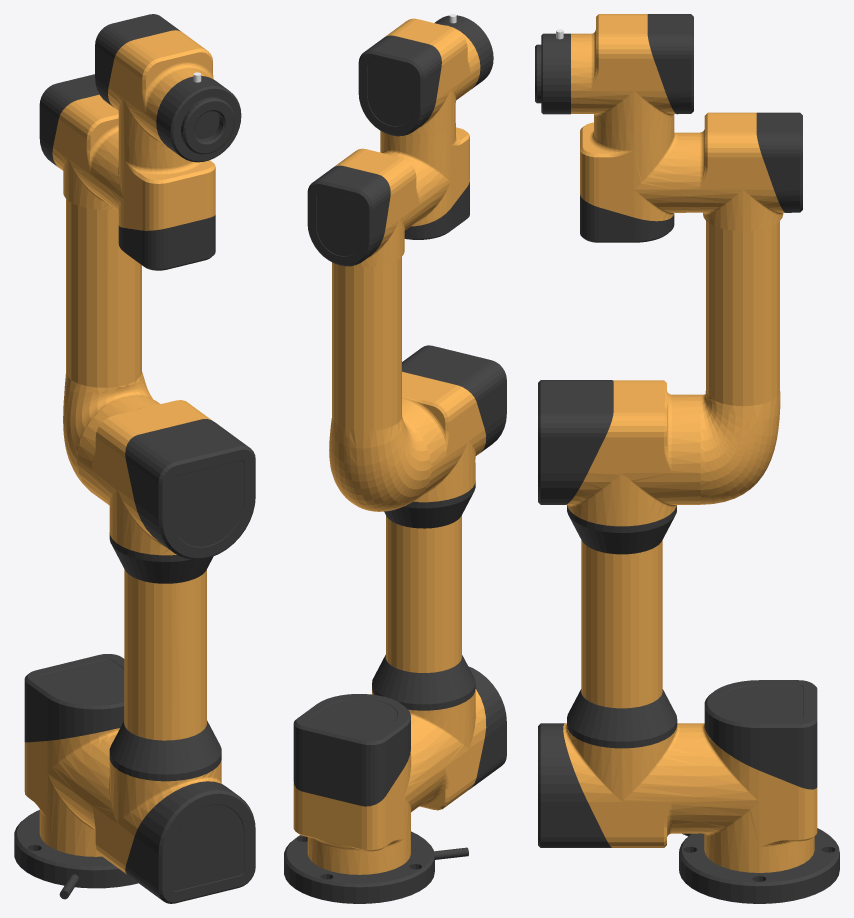
The model's file is OUR-II.dae.
The picture shows the model from 3 angles, left to right: view 1: azimuth 30°, elevation 25°; view 2: azimuth 150°, elevation 25°; view 3: azimuth 270°, elevation 25°; orthographic projection. The views are drawn at different scales.
Parts seen in each view (by area): view 1: link6, link2, link7, link1, link4, link9, link10, link8, link11, link3, base, link5; view 2: link1, link7, link6, link10, link8, link4, link2, base, link9, link3, link5, link11; view 3: link6, link1, link7, link2, link8, link10, link4, link9, base, link3, link11, link5.
Part boxes in pixels (x1=…): link6: x1=77, y1=396, x2=255, y2=559; link2: x1=77, y1=735, x2=255, y2=903; link7: x1=63, y1=199, x2=158, y2=492; link1: x1=24, y1=654, x2=124, y2=856; link4: x1=124, y1=569, x2=206, y2=740; link9: x1=101, y1=133, x2=215, y2=270; link10: x1=95, y1=14, x2=213, y2=149; link8: x1=39, y1=74, x2=118, y2=209; link11: x1=156, y1=76, x2=241, y2=162; link3: x1=109, y1=720, x2=221, y2=781; base: x1=14, y1=810, x2=138, y2=899; link5: x1=109, y1=532, x2=213, y2=583; link1: x1=293, y1=694, x2=431, y2=874; link7: x1=329, y1=257, x2=431, y2=511; link6: x1=402, y1=345, x2=506, y2=502; link10: x1=358, y1=18, x2=480, y2=136; link8: x1=307, y1=148, x2=429, y2=266; link4: x1=386, y1=515, x2=461, y2=672; link2: x1=372, y1=666, x2=506, y2=810; base: x1=284, y1=831, x2=468, y2=903; link9: x1=380, y1=123, x2=469, y2=239; link3: x1=372, y1=654, x2=475, y2=710; link5: x1=384, y1=480, x2=475, y2=528; link11: x1=435, y1=15, x2=493, y2=89; link6: x1=538, y1=380, x2=700, y2=526; link1: x1=700, y1=680, x2=817, y2=872; link7: x1=700, y1=221, x2=780, y2=504; link2: x1=538, y1=723, x2=700, y2=847; link8: x1=680, y1=112, x2=802, y2=231; link10: x1=571, y1=14, x2=693, y2=132; link4: x1=581, y1=540, x2=662, y2=708; link9: x1=580, y1=116, x2=679, y2=242; base: x1=679, y1=828, x2=839, y2=903; link3: x1=567, y1=689, x2=677, y2=748; link11: x1=535, y1=33, x2=570, y2=114; link5: x1=567, y1=505, x2=676, y2=554.
Bounding box in the file's own units: 0.18 × 0.326 × 0.9975.
